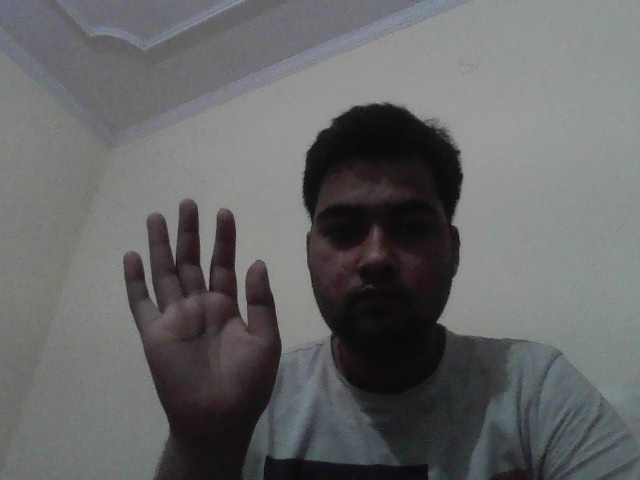Hello: (118, 196, 285, 440)
